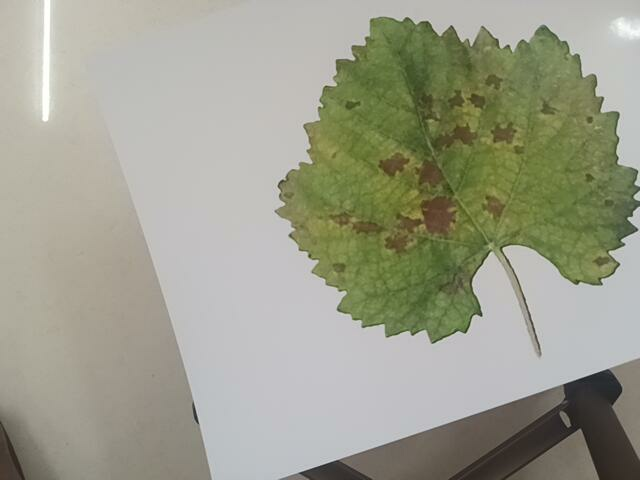Grape_Leaf_Vine_Disease: (268, 19, 632, 334)
